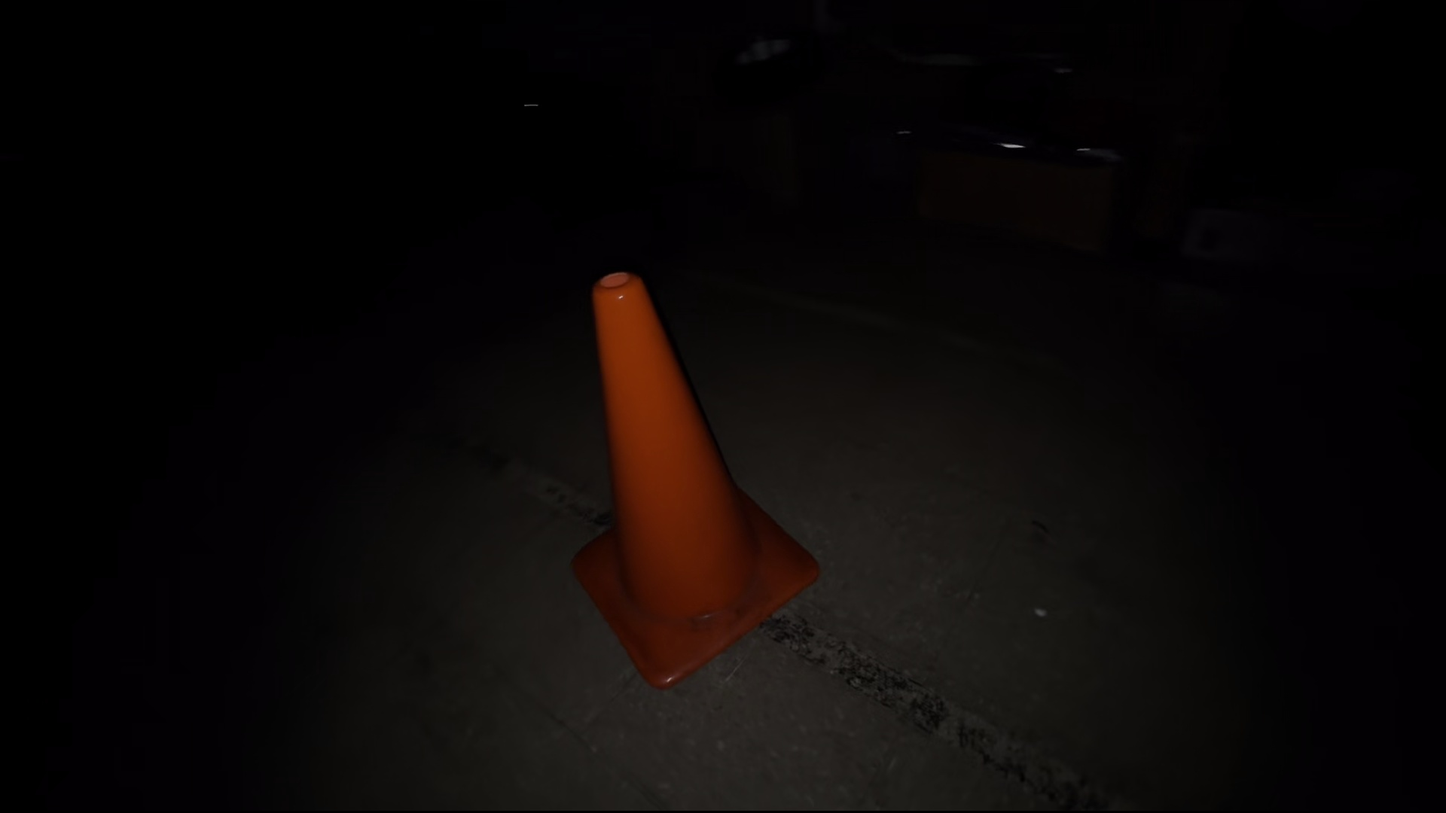traffic_cone: (569, 269, 821, 690)
